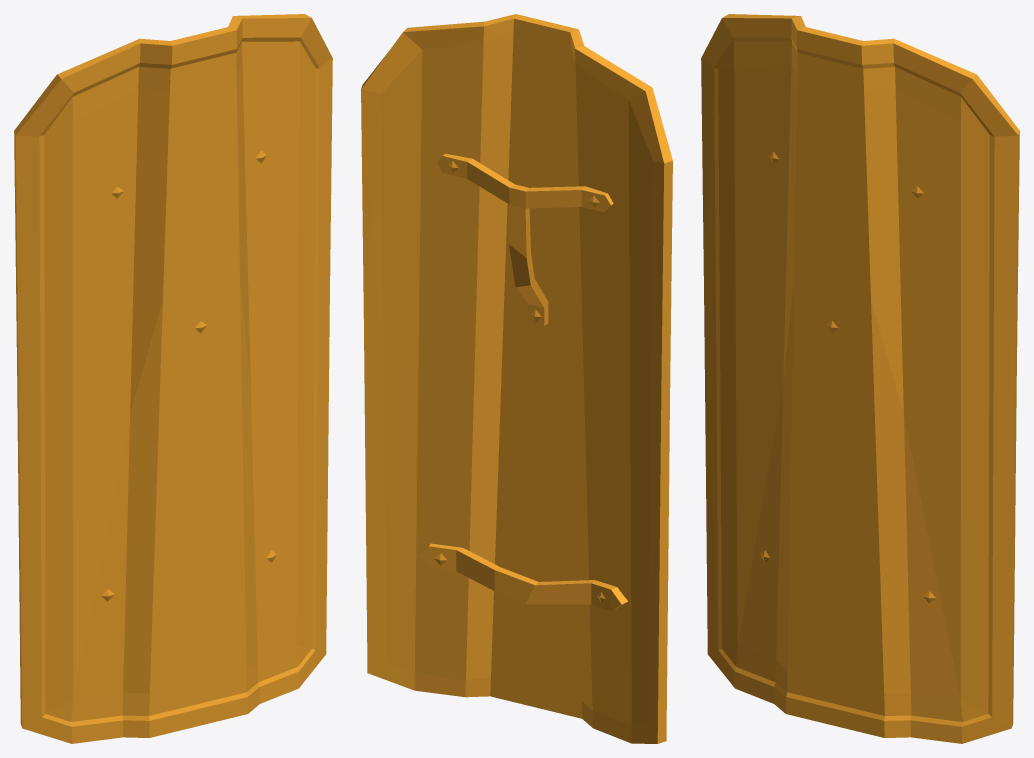
Rendered from SM_Shield_Pavise_B.fbx.
3 renders of one model, left to right at view 1: azimuth 30°, elevation 25°; view 2: azimuth 150°, elevation 25°; view 3: azimuth 330°, elevation 25°, orthographic. The views are drawn at different scales.
Parts seen in each view (by area): view 1: shield-pavise-b; view 2: shield-pavise-b; view 3: shield-pavise-b.
Boxes of the visible parts, box(x1,y1,x2,y2) form: shield-pavise-b: box(14, 14, 332, 743); shield-pavise-b: box(361, 14, 672, 743); shield-pavise-b: box(701, 14, 1019, 743).
Bounding box in the file's own units: 0.7638 × 1.59 × 0.1487.
